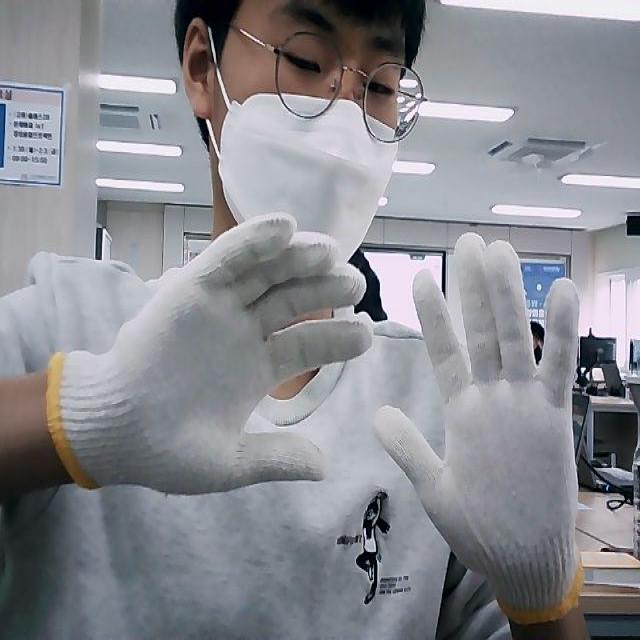gloves: (46, 213, 372, 487), (378, 232, 586, 622)
